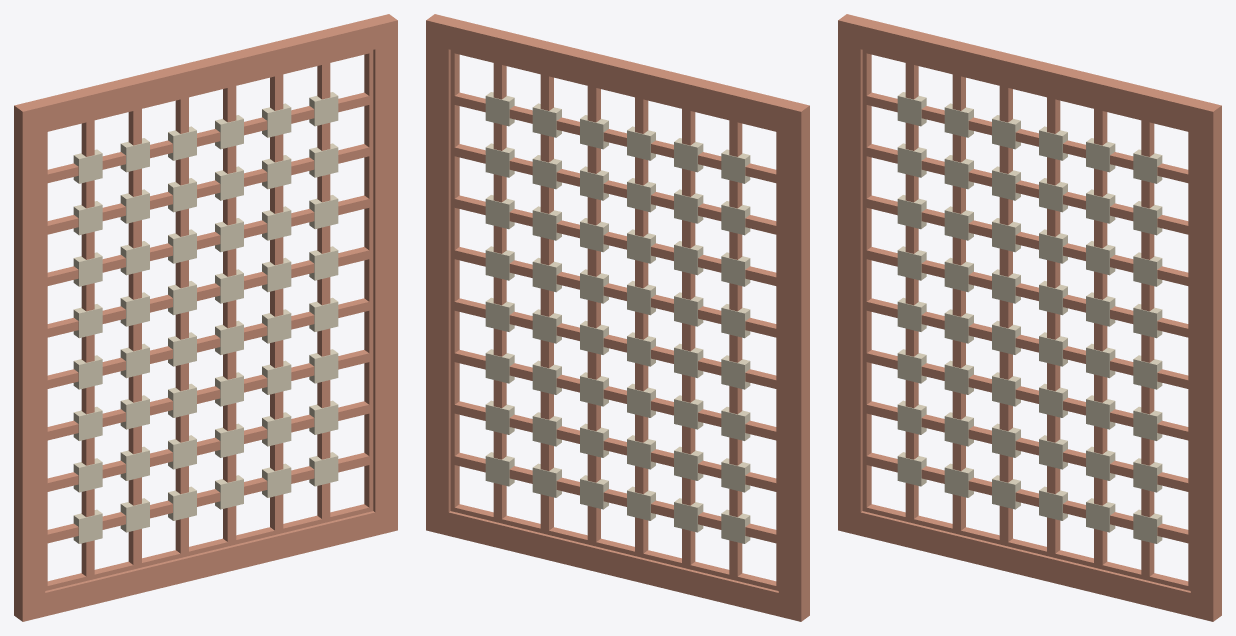
File: kit_jaali.glb
3 renders of one model, left to right at view 1: azimuth 30°, elevation 25°; view 2: azimuth 150°, elevation 25°; view 3: azimuth 330°, elevation 25°, orthographic.
Visible parts, largest first — view 1: kit_jaali; view 2: kit_jaali; view 3: kit_jaali.
Boxes of the visible parts, x1,y1,x2,y2 form: kit_jaali: [14, 14, 397, 621]; kit_jaali: [426, 14, 809, 621]; kit_jaali: [838, 14, 1221, 621].
Size of the model in its own units: 2 by 2.6 by 0.08.
